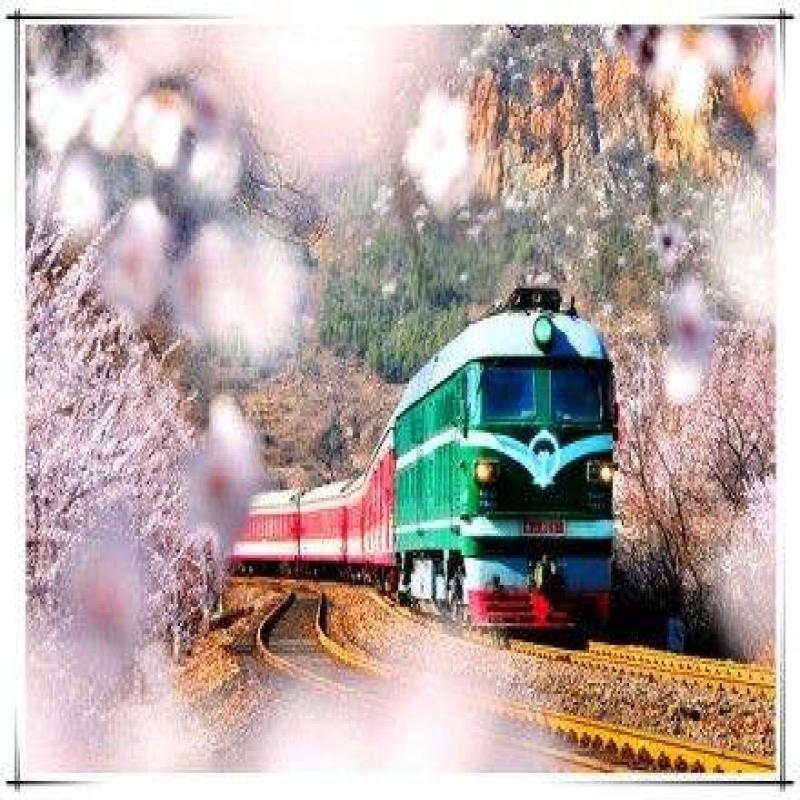train: (297, 325, 623, 632)
